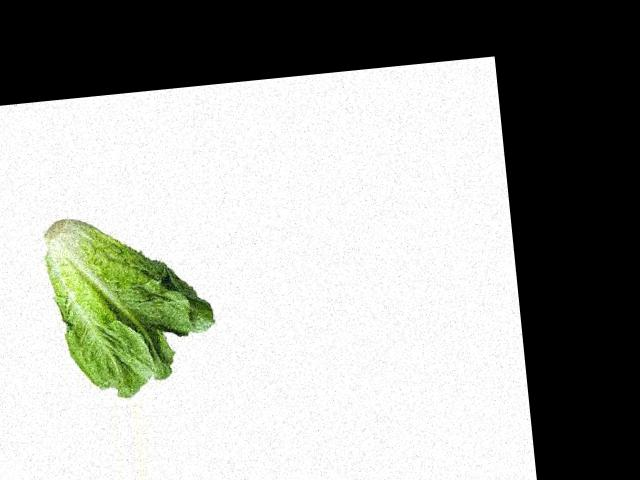lettuce: (126, 256, 298, 388)
